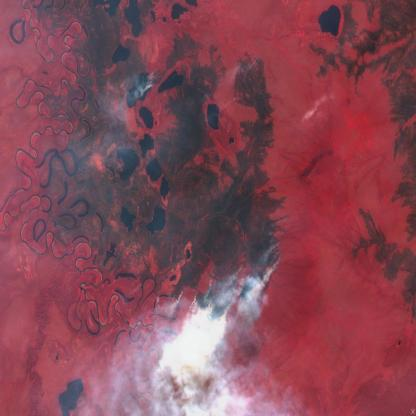fire: (154, 235, 286, 337)
